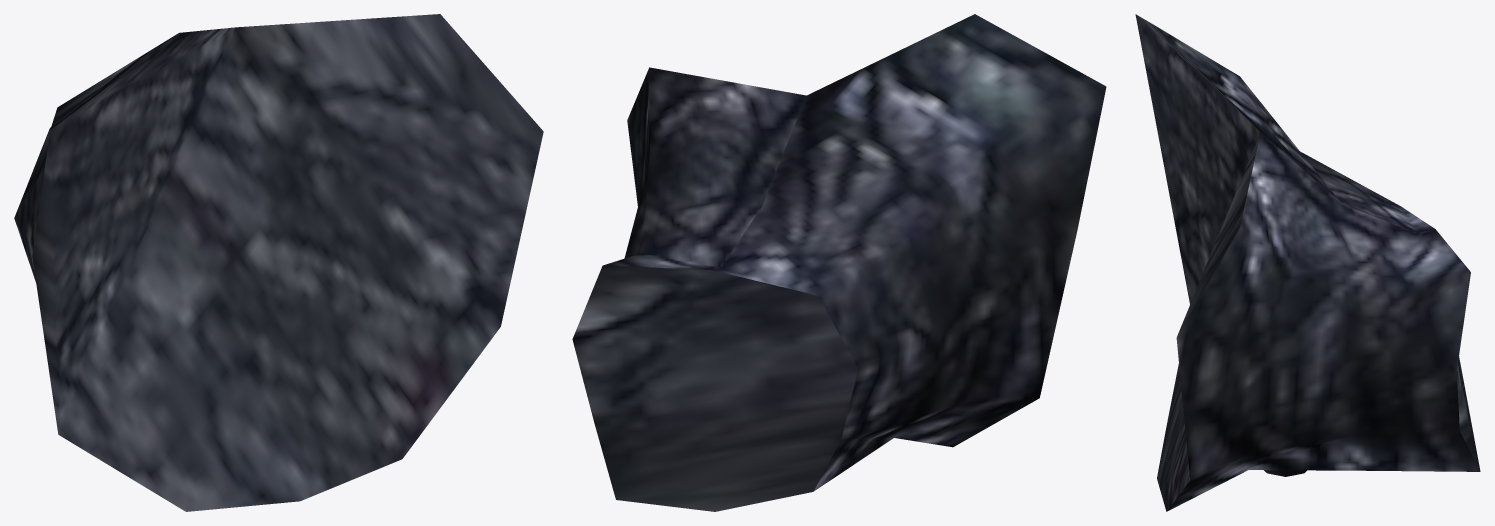
Rendered from nar_condra_7_stomach.glb.
The picture shows the model from 3 angles, left to right: view 1: azimuth 30°, elevation 25°; view 2: azimuth 150°, elevation 25°; view 3: azimuth 270°, elevation 25°; orthographic projection. The views are drawn at different scales.
Parts seen in each view (by area): view 1: model_nar_condra_7_stomach; view 2: model_nar_condra_7_stomach; view 3: model_nar_condra_7_stomach.
Boxes of the visible parts, x1,y1,x2,y2 form: model_nar_condra_7_stomach: (14,14,543,511); model_nar_condra_7_stomach: (572,14,1106,511); model_nar_condra_7_stomach: (1135,14,1480,511).
Size of the model in its own units: 0.621 by 0.5728 by 0.4416.
1 material, 1 textured.
